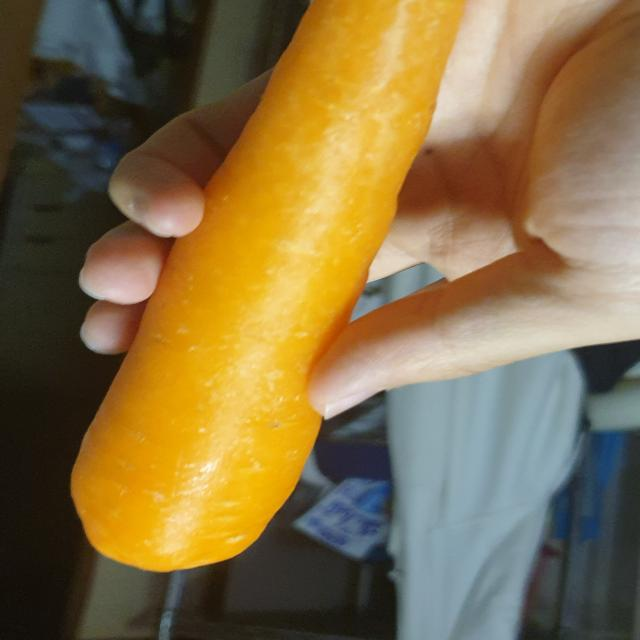Carrot: (62, 0, 477, 580)
